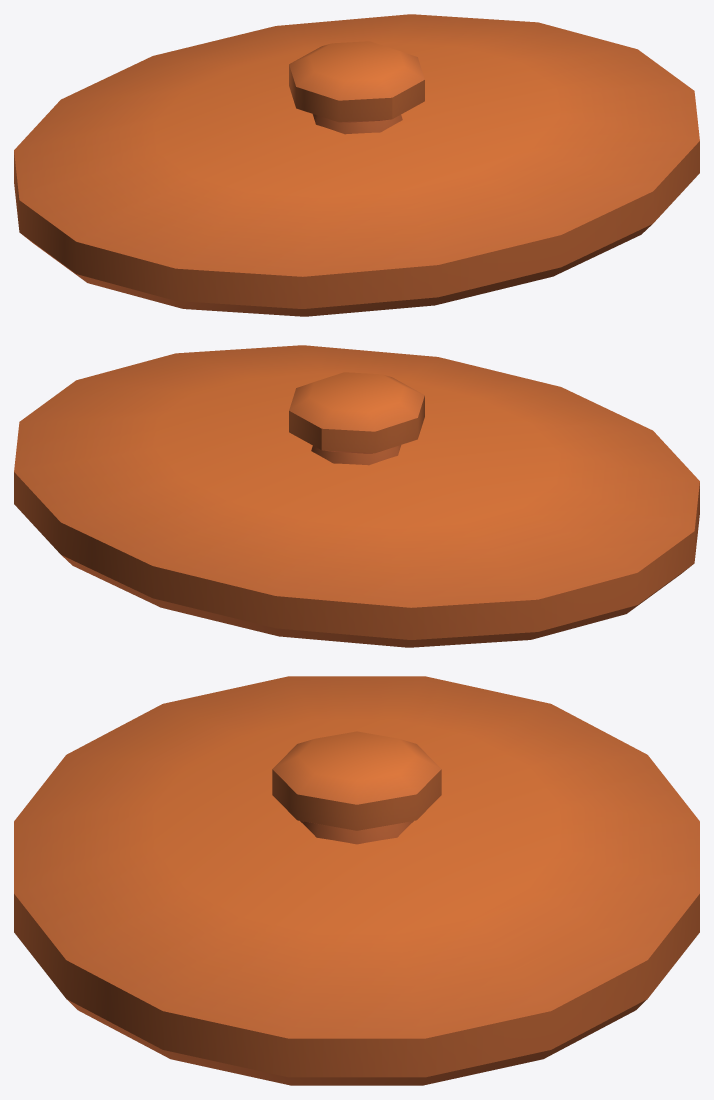
Rendered from lid_large.obj.
The picture shows the model from 3 angles, top to bottom: view 1: azimuth 30°, elevation 25°; view 2: azimuth 150°, elevation 25°; view 3: azimuth 270°, elevation 25°; orthographic projection. The views are drawn at different scales.
Parts seen in each view (by area): view 1: lid_large_Cylinder.205; view 2: lid_large_Cylinder.205; view 3: lid_large_Cylinder.205.
Part boxes in pixels (x1,y1,x2,y2): lid_large_Cylinder.205: (14,14,699,316); lid_large_Cylinder.205: (14,345,699,647); lid_large_Cylinder.205: (14,676,699,1085).
Bounding box in the file's own units: 1.5 × 0.3 × 1.2.
1 material, 1 textured.
